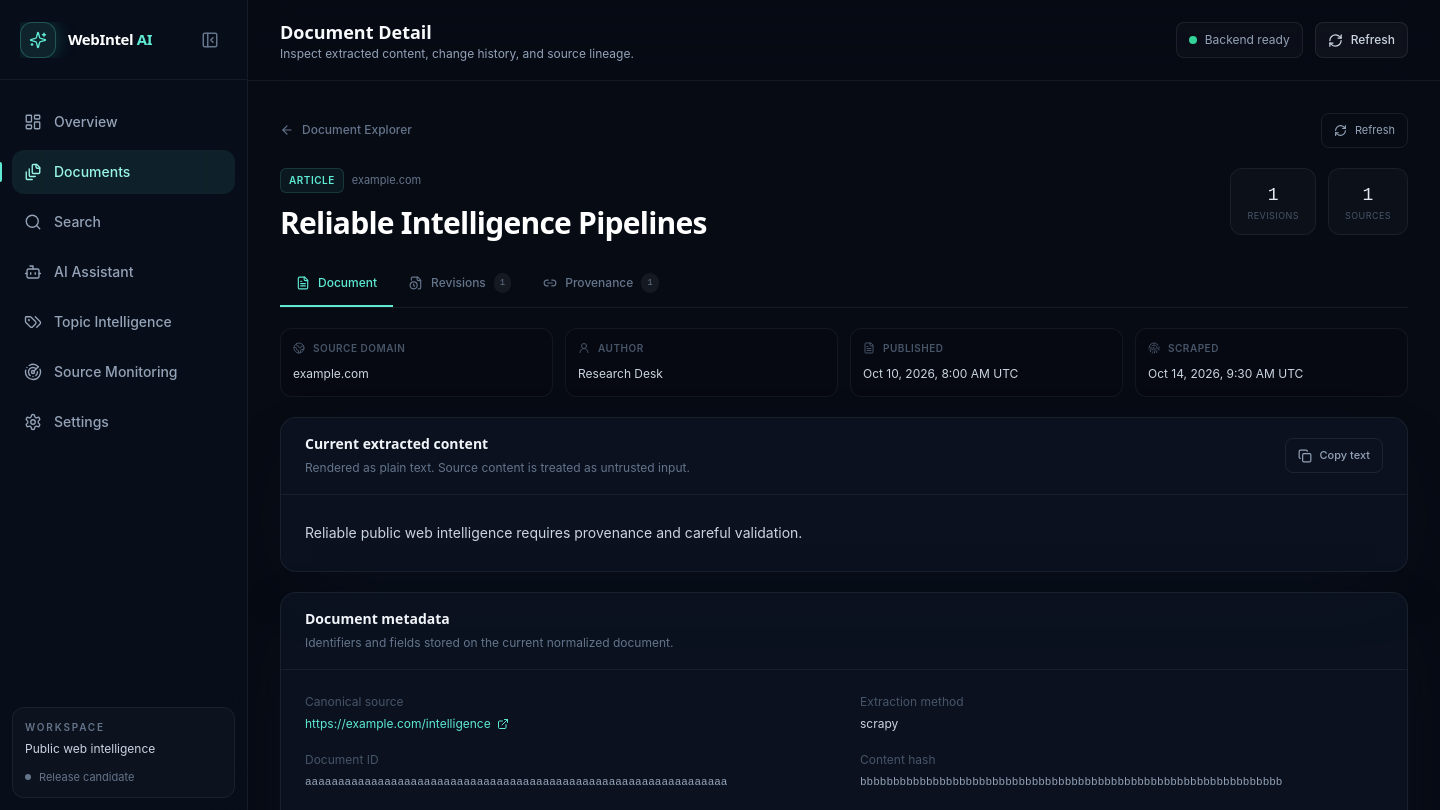
it: DocumentDetailPage › handles a single revision without requesting a comparison
Click the tab "Revisions 1" at (460, 284), box [393, 260, 527, 306]
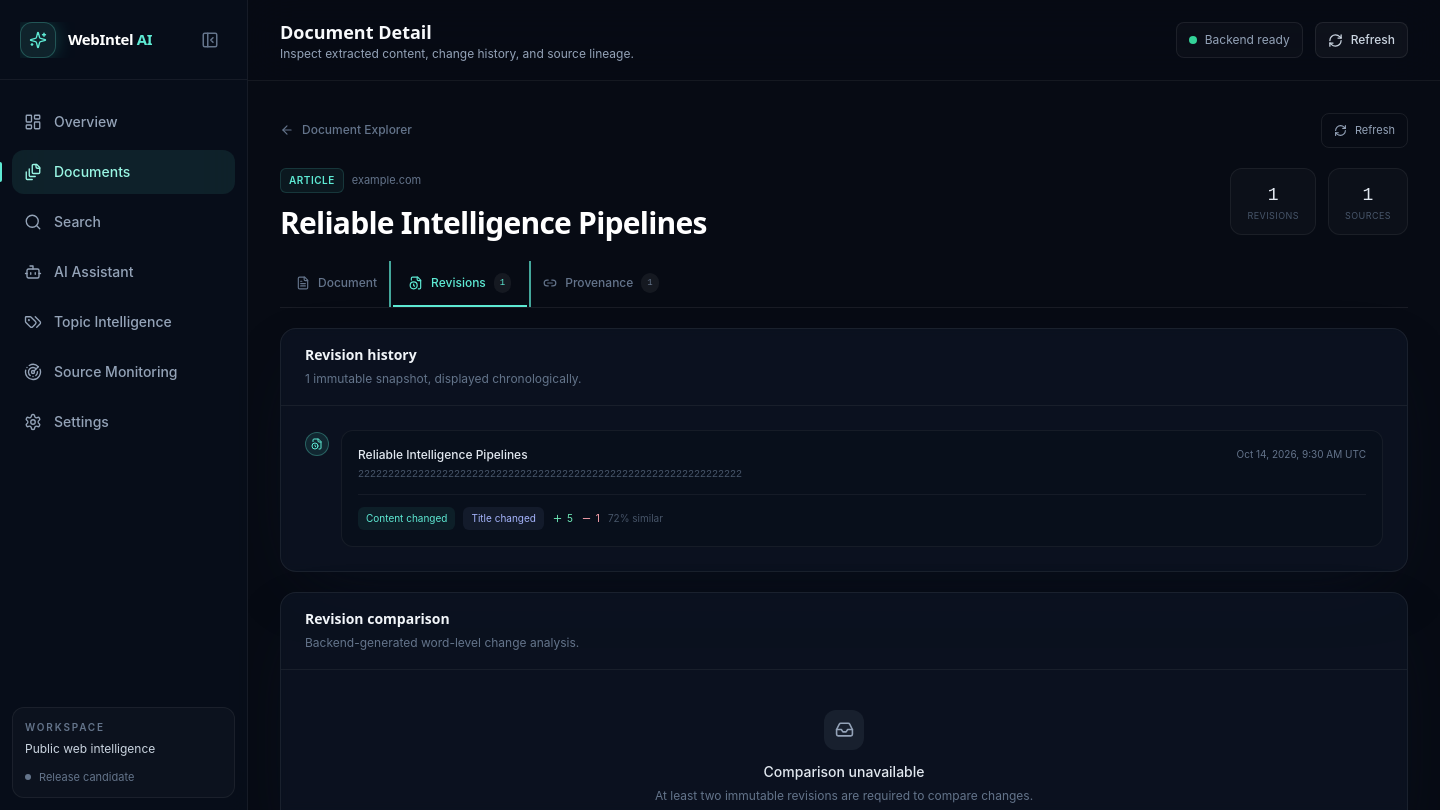
expect the text "Comparison unavailable" is shown: met, box [764, 762, 924, 782]
